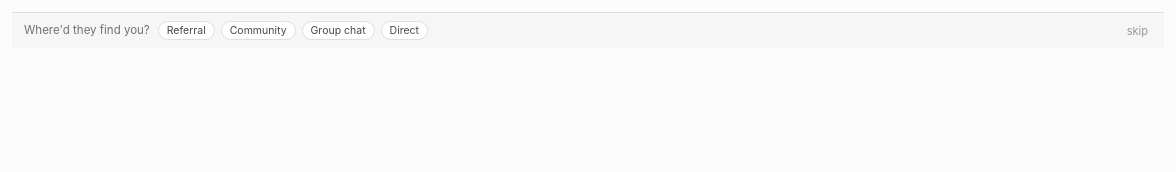
Test case: AcquisitionSourceBanner › dismisses (demotes to inline link) when skip is clicked
Click the button "skip": (1137, 30) top-left (1123, 22), bottom-right (1152, 40)
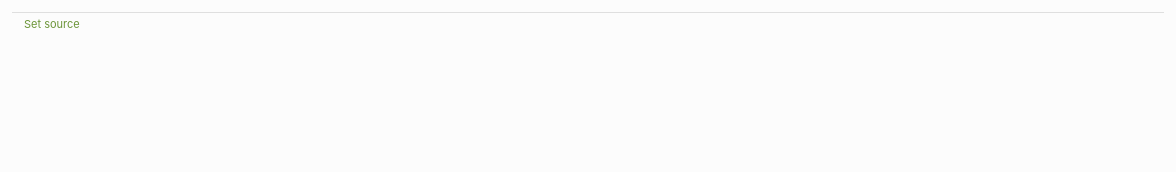
Now the text "Where'd they find you" is gone
Now the button "Set source" is shown, box top-left (12, 12), bottom-right (1164, 35)
